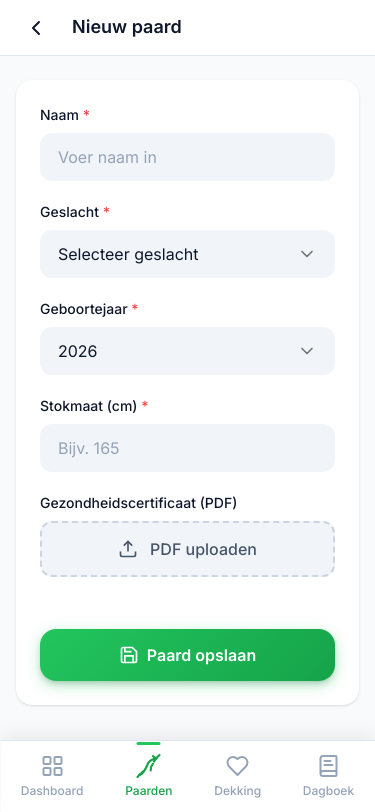
Test: Add Horse Form › Form Submission › should show error toast on API failure
Type "Spirit" into the field with id "name". click: (188, 157)
box: [40,133,335,181]
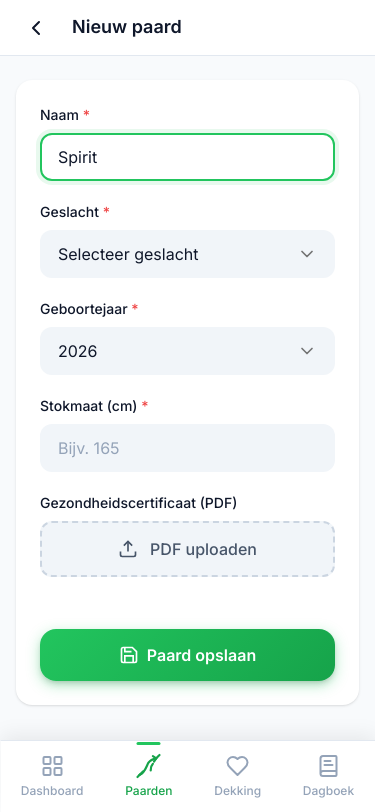
Select "Hengst" in the dropdown with id "sex". click: (188, 254)
box: [40,230,335,278]
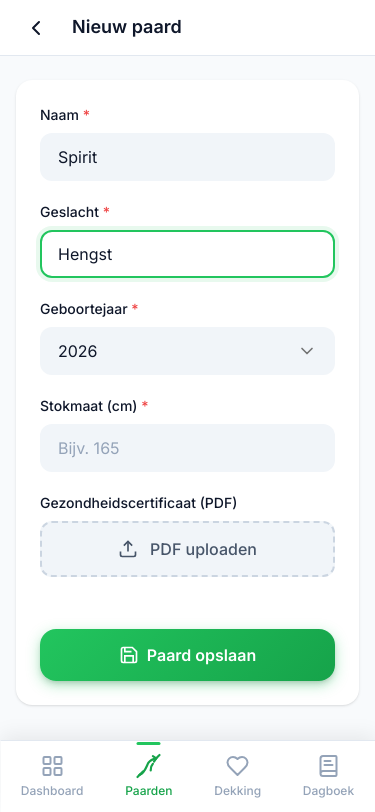
Type "165" into the number field with id "height". click: (188, 448)
box: [40,424,335,472]
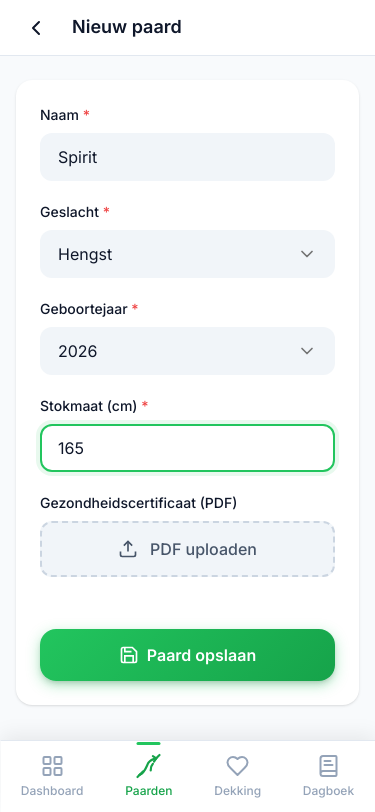
Click the submit button. click: (188, 655)
box: [40,629,335,681]
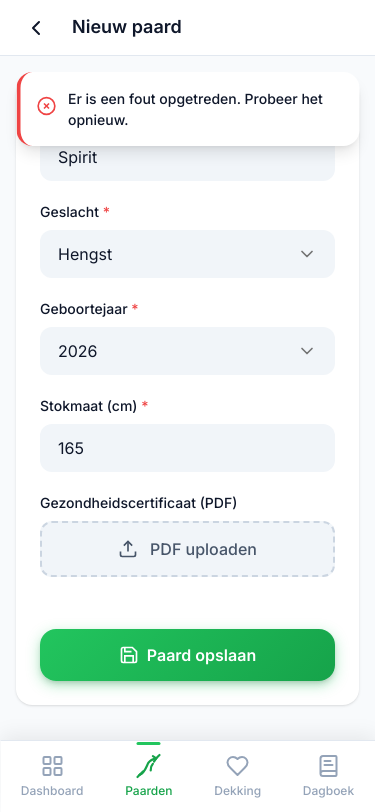
Check: the text "Er is een fout opgetreden" is shown, box [68,90,323,128]
